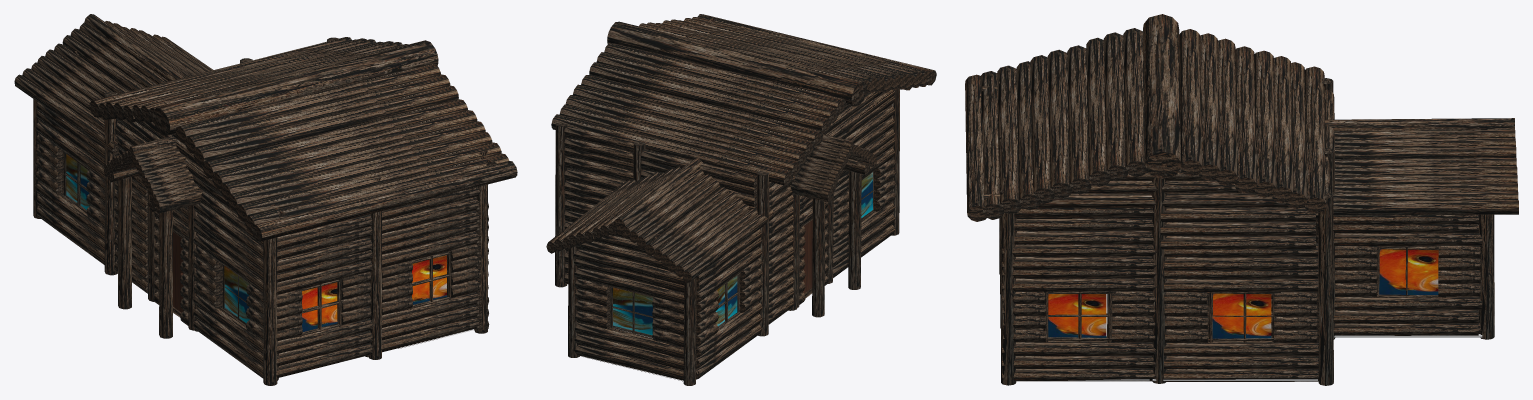
The model's file is Cabin.fbx.
3 renders of one model, left to right at view 1: azimuth 30°, elevation 25°; view 2: azimuth 150°, elevation 25°; view 3: azimuth 270°, elevation 25°, orthographic. The views are drawn at different scales.
Visible parts, largest first — view 1: Cabin, Windows, Plane; view 2: Cabin, Windows, Plane; view 3: Cabin, Windows, Floor.
Part boxes in pixels (box(x1,y1,x2,y2)): Cabin: box(14, 14, 517, 385); Windows: box(66, 154, 446, 331); Plane: box(173, 232, 183, 312); Cabin: box(546, 14, 936, 385); Windows: box(613, 172, 872, 335); Plane: box(802, 220, 812, 293); Cabin: box(965, 14, 1518, 385); Windows: box(1048, 249, 1438, 338); Floor: box(1068, 294, 1482, 380).
Bounding box in the file's own units: 1605 × 1266 × 2605.
